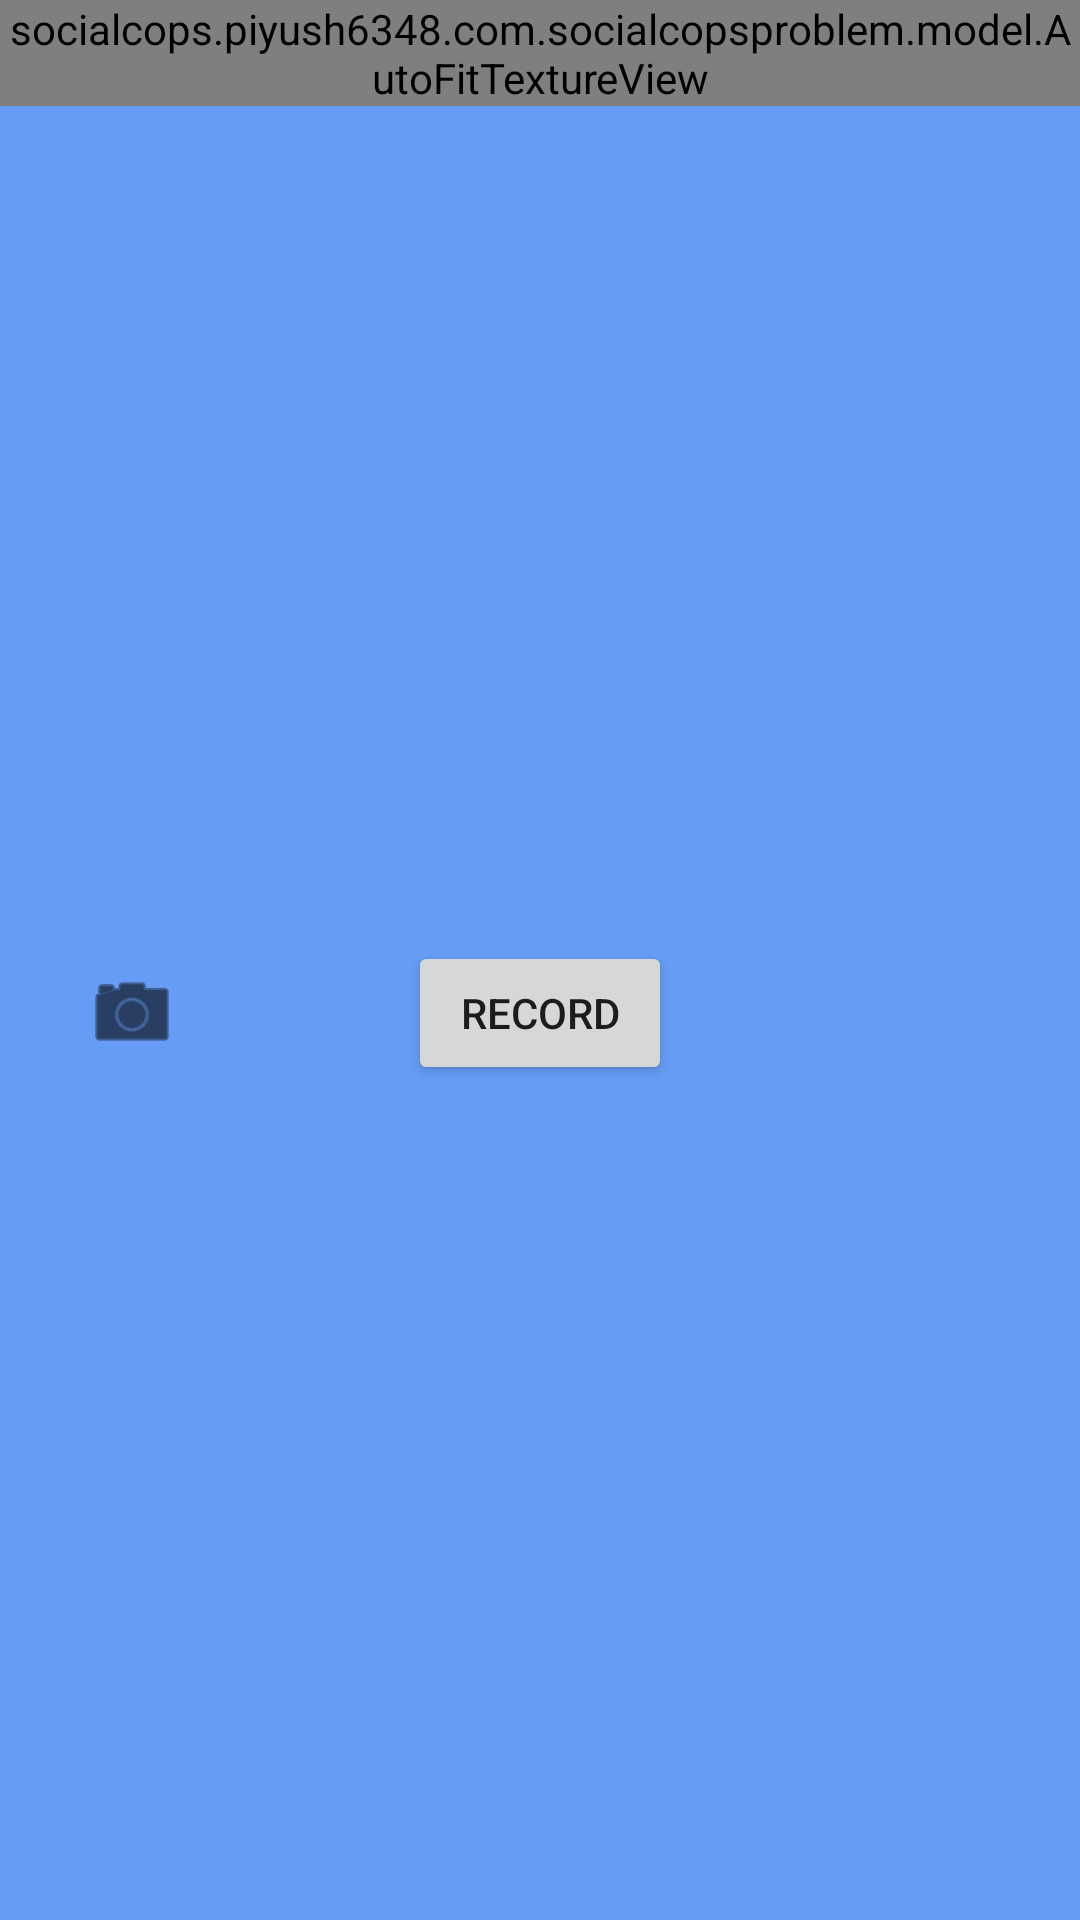

Point at icon controls on the screen. Image size 1080 × 1920, points as point (x, y).
camera: point (132, 1011)
